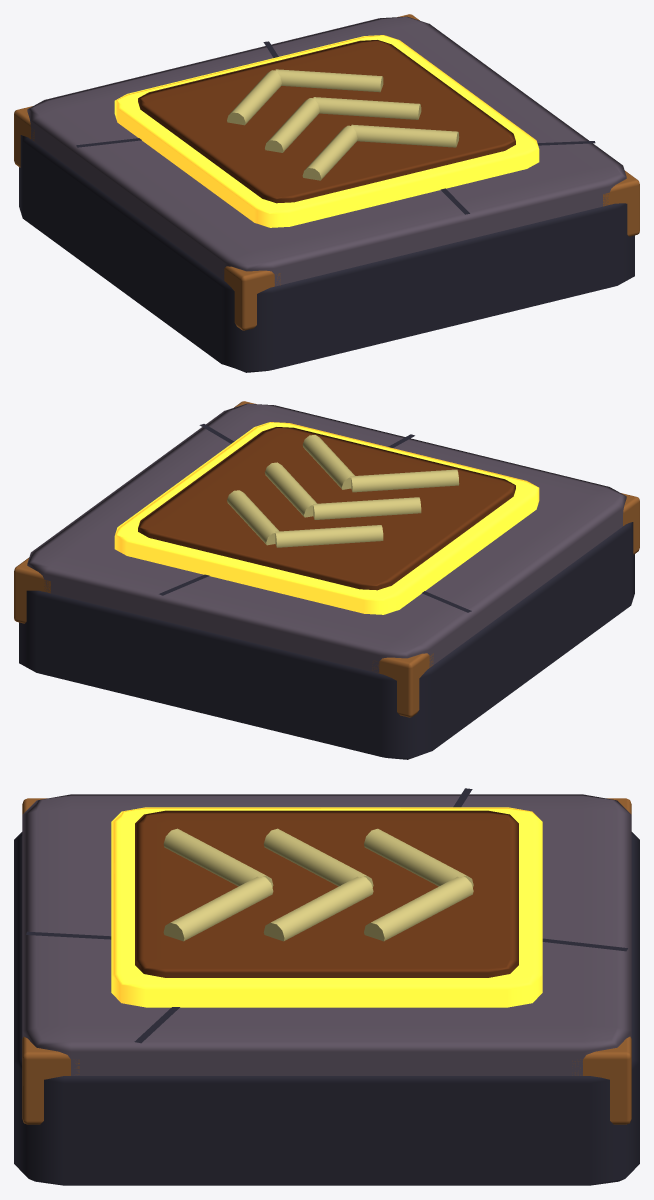
Rendered from volcano-burst.glb.
The picture shows the model from 3 angles, top to bottom: view 1: azimuth 30°, elevation 25°; view 2: azimuth 150°, elevation 25°; view 3: azimuth 270°, elevation 25°; orthographic projection. The views are drawn at different scales.
Parts seen in each view (by area): view 1: volcano_burst_tile; view 2: volcano_burst_tile; view 3: volcano_burst_tile.
Boxes of the visible parts, <box> form: volcano_burst_tile: <box>14,14,639,372</box>; volcano_burst_tile: <box>14,401,639,759</box>; volcano_burst_tile: <box>14,788,639,1185</box>.
Size of the model in its own units: 2.25 by 0.7373 by 2.25.
